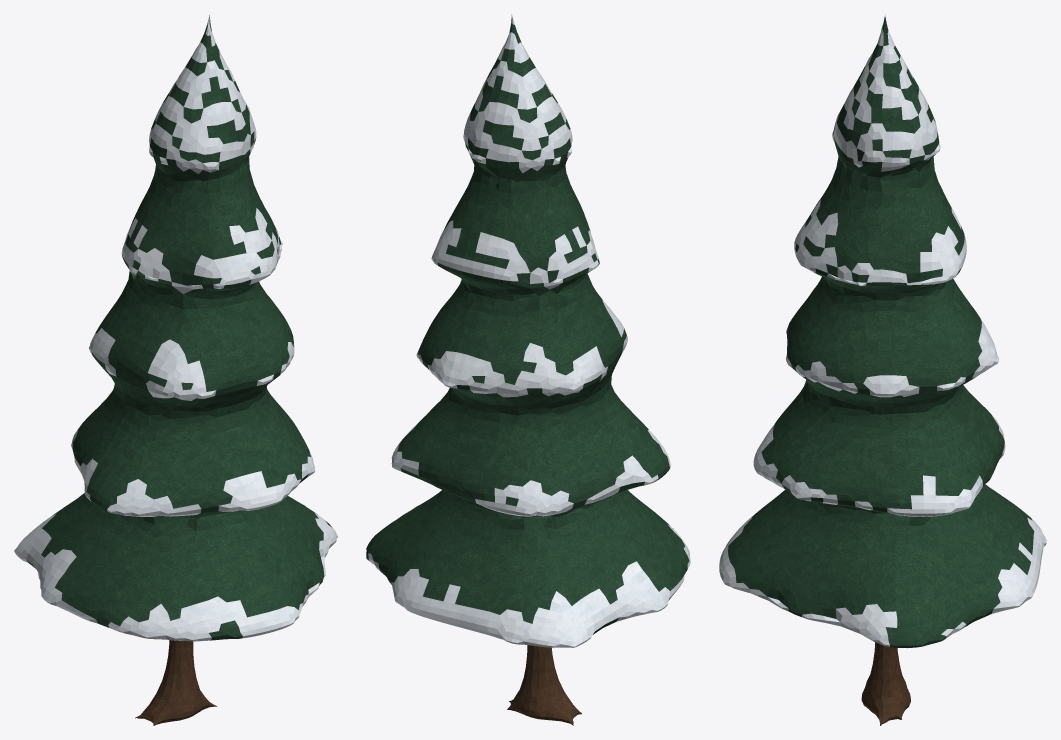
Rendered from tree_pine_b_snow.glb.
3 views of the same model, side by side, from view 1: azimuth 30°, elevation 25°; view 2: azimuth 150°, elevation 25°; view 3: azimuth 270°, elevation 25° (orthographic). The views are drawn at different scales.
Visible parts, largest first — view 1: wilds_tree_pine_b_snow; view 2: wilds_tree_pine_b_snow; view 3: wilds_tree_pine_b_snow.
Boxes of the visible parts, x1=… form: wilds_tree_pine_b_snow: x1=14, y1=14, x2=337, y2=725; wilds_tree_pine_b_snow: x1=366, y1=14, x2=690, y2=725; wilds_tree_pine_b_snow: x1=719, y1=14, x2=1046, y2=725.
Size of the model in its own units: 1.72 by 3.96 by 1.65.
Materials: 1 (1 with a texture image).
